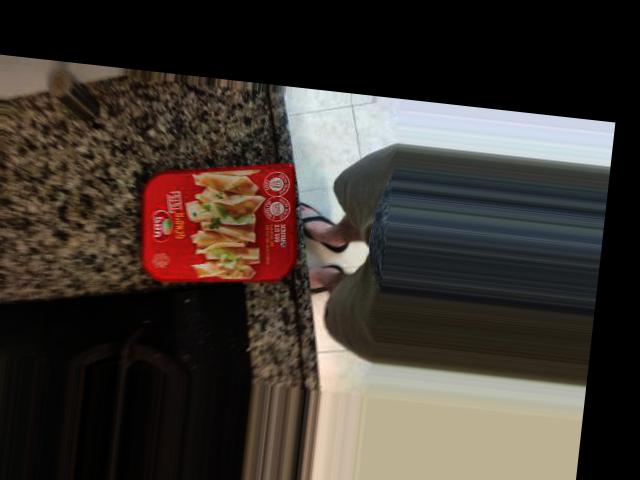cheese: (139, 151, 307, 298)
